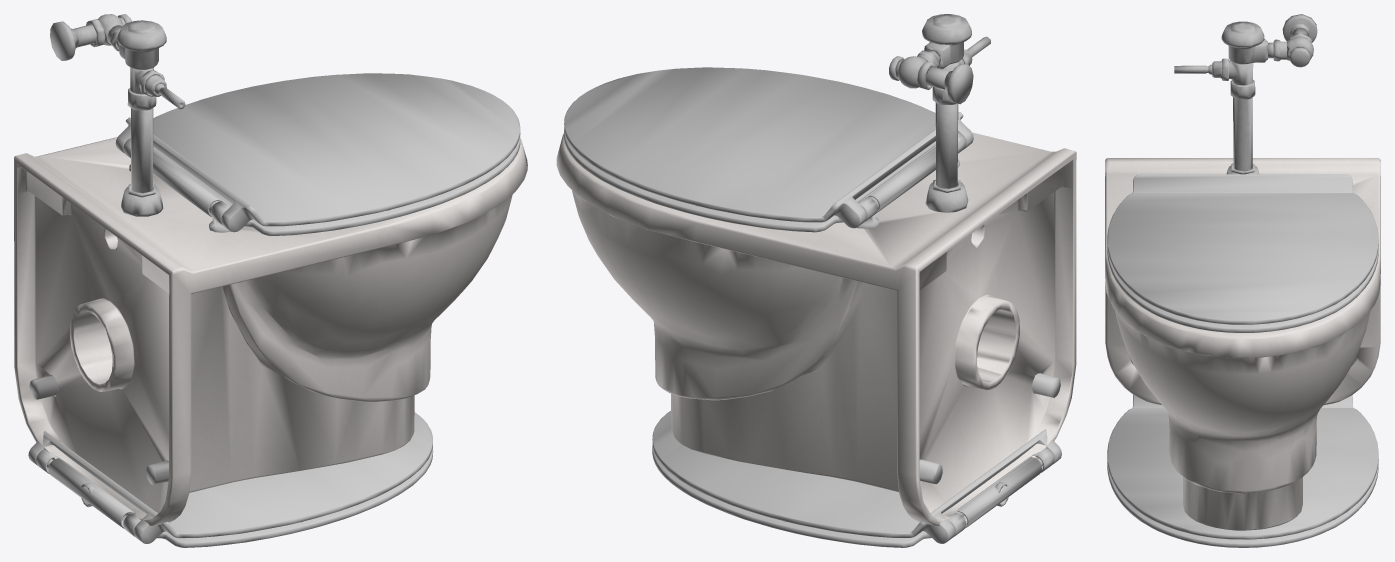
The model's file is sanitary_toilet_wallMounted_a01.glb.
3 renders of one model, left to right at view 1: azimuth 30°, elevation 25°; view 2: azimuth 150°, elevation 25°; view 3: azimuth 270°, elevation 25°, orthographic. The views are drawn at different scales.
Parts seen in each view (by area): view 1: body_01_mesh_00, toiletLid_01_mesh_00 (×2), toiletSeat_01_mesh_00 (×2); view 2: body_01_mesh_00, toiletLid_01_mesh_00 (×2), toiletSeat_01_mesh_00 (×2); view 3: body_01_mesh_00, toiletLid_01_mesh_00 (×2), toiletSeat_01_mesh_00 (×2), button_01_mesh_00, stopValveHandle_01_mesh_00.
Boxes of the visible parts, <box> form: body_01_mesh_00: <box>14,14,527,526</box>; toiletLid_01_mesh_00 (×2): <box>28,73,520,543</box>; toiletSeat_01_mesh_00 (×2): <box>36,135,520,547</box>; body_01_mesh_00: <box>556,14,1076,525</box>; toiletLid_01_mesh_00 (×2): <box>564,67,1061,543</box>; toiletSeat_01_mesh_00 (×2): <box>564,130,1054,547</box>; body_01_mesh_00: <box>1105,14,1380,530</box>; toiletLid_01_mesh_00 (×2): <box>1107,174,1378,539</box>; toiletSeat_01_mesh_00 (×2): <box>1107,247,1378,547</box>; button_01_mesh_00: <box>1290,47,1310,67</box>; stopValveHandle_01_mesh_00: <box>1174,64,1212,74</box>.
Bounding box in the file's own units: 0.6187 × 0.6542 × 0.3999.
Materials: 9 (5 with a texture image).
